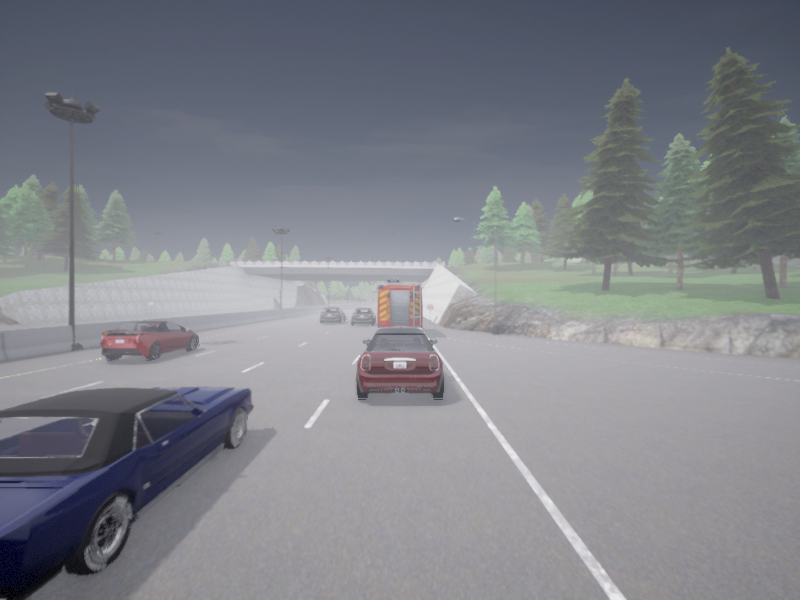vehicle: (0, 387, 253, 599), (356, 326, 443, 398), (100, 321, 198, 360), (378, 278, 422, 327), (320, 307, 345, 323), (351, 308, 375, 324)
